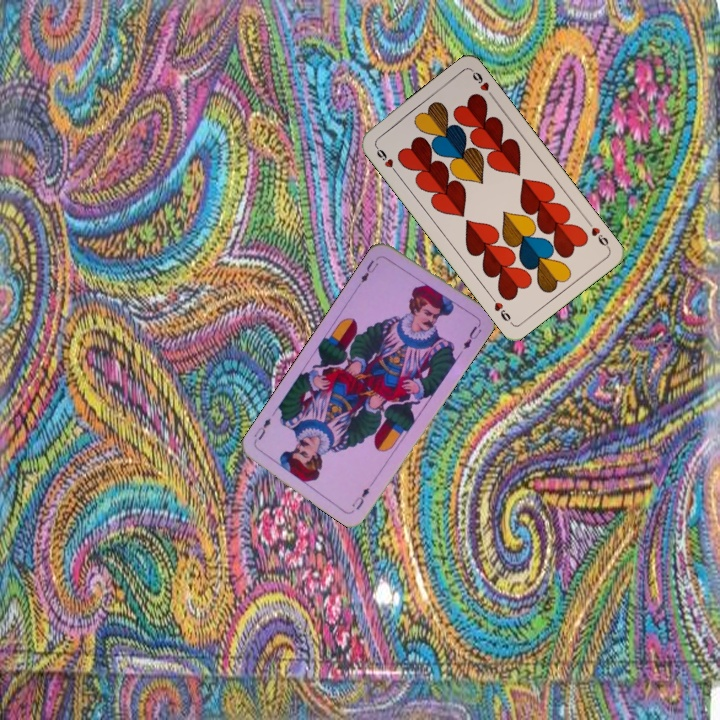EU: (348, 477, 377, 513), (354, 256, 381, 289)
H9: (371, 141, 400, 177), (583, 217, 612, 251)
